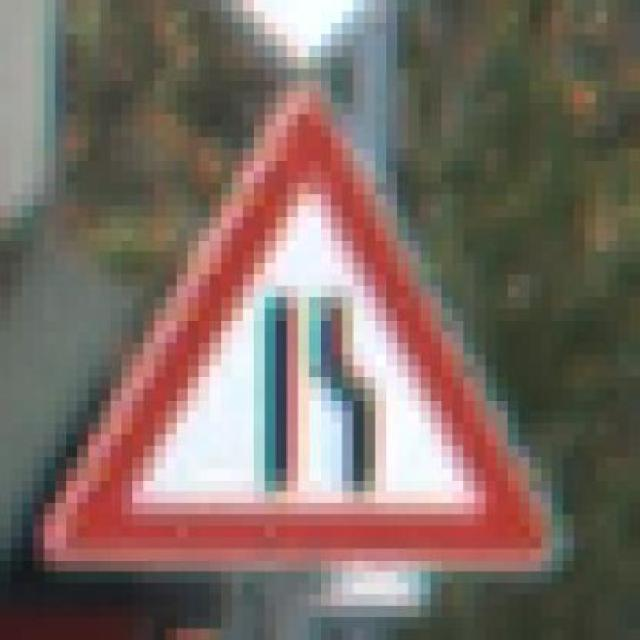-Road narrows on right: (22, 57, 584, 583)
